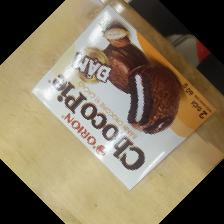Chocopie_cacao: (29, 4, 216, 190)
